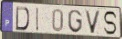0: (51, 9, 64, 34)
D: (15, 6, 31, 32)
G: (67, 9, 83, 34)
I: (35, 7, 40, 32)
S: (103, 10, 118, 36)
V: (84, 9, 102, 35)
